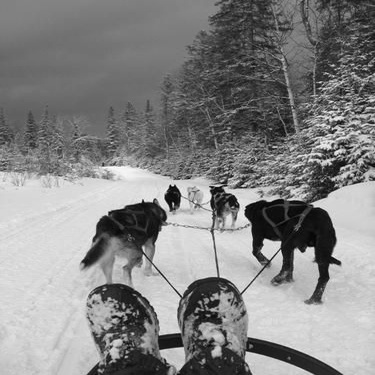dog: (242, 191, 347, 306), (79, 192, 166, 288), (207, 181, 239, 234), (161, 183, 183, 215), (185, 185, 205, 213)
